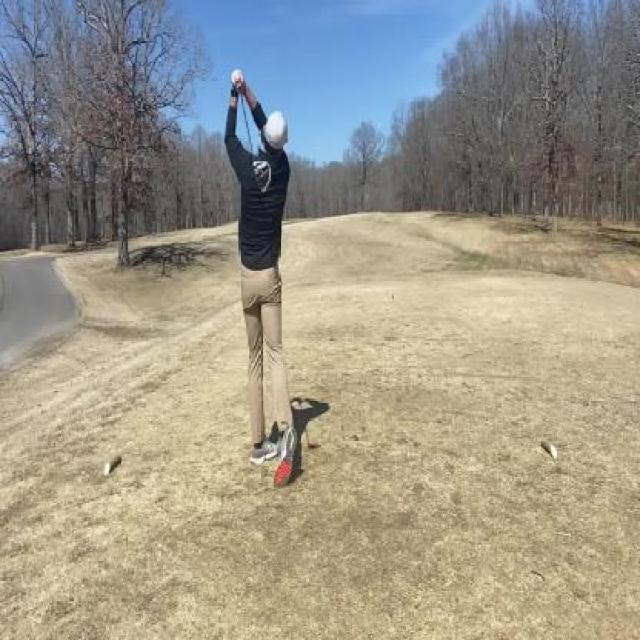club head: (251, 153, 272, 195)
